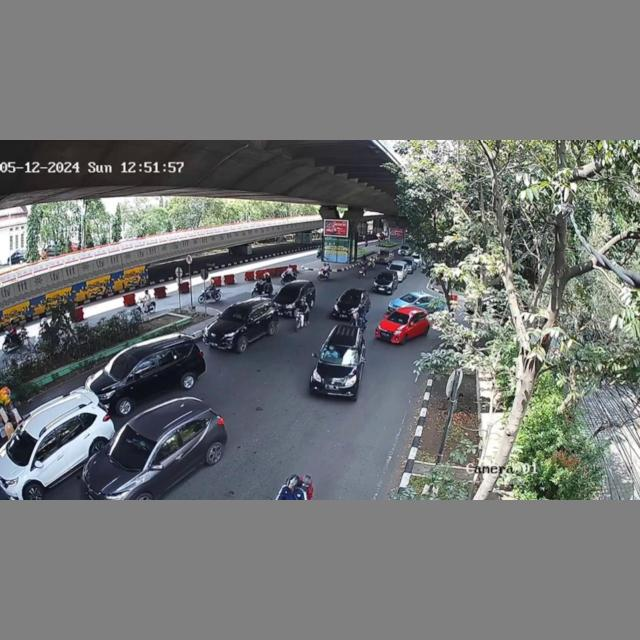windshield: (320, 345, 360, 367), (220, 306, 253, 327)
